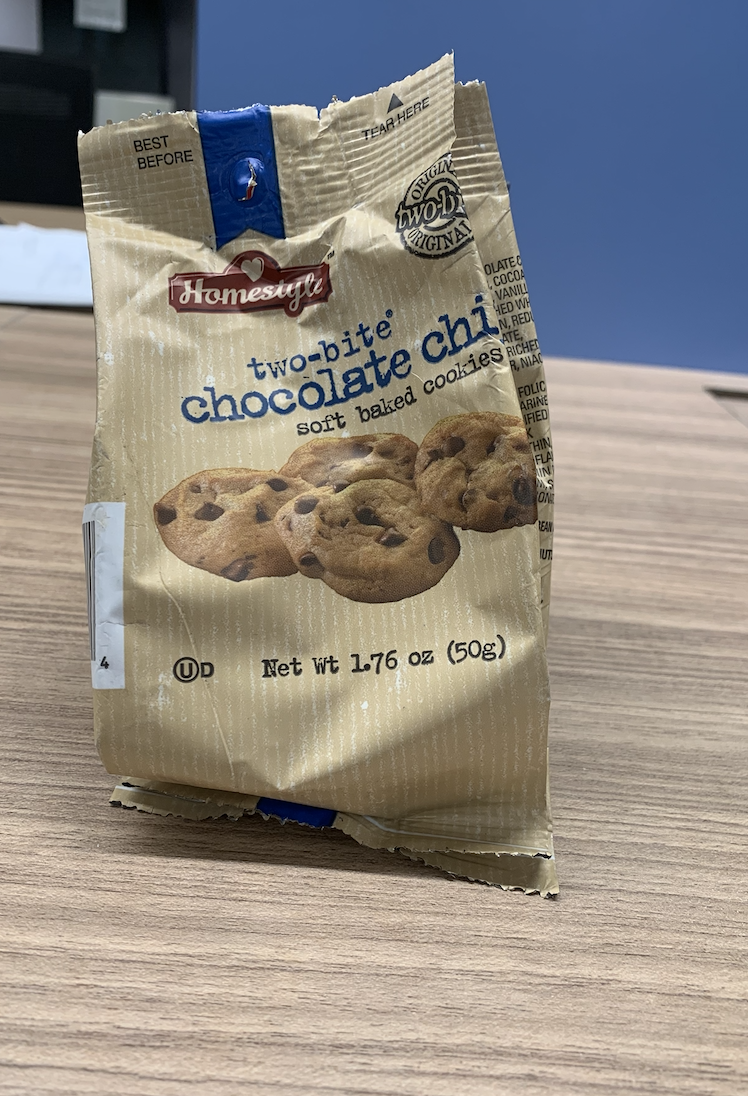cookies_50g: (90, 130, 545, 856)
